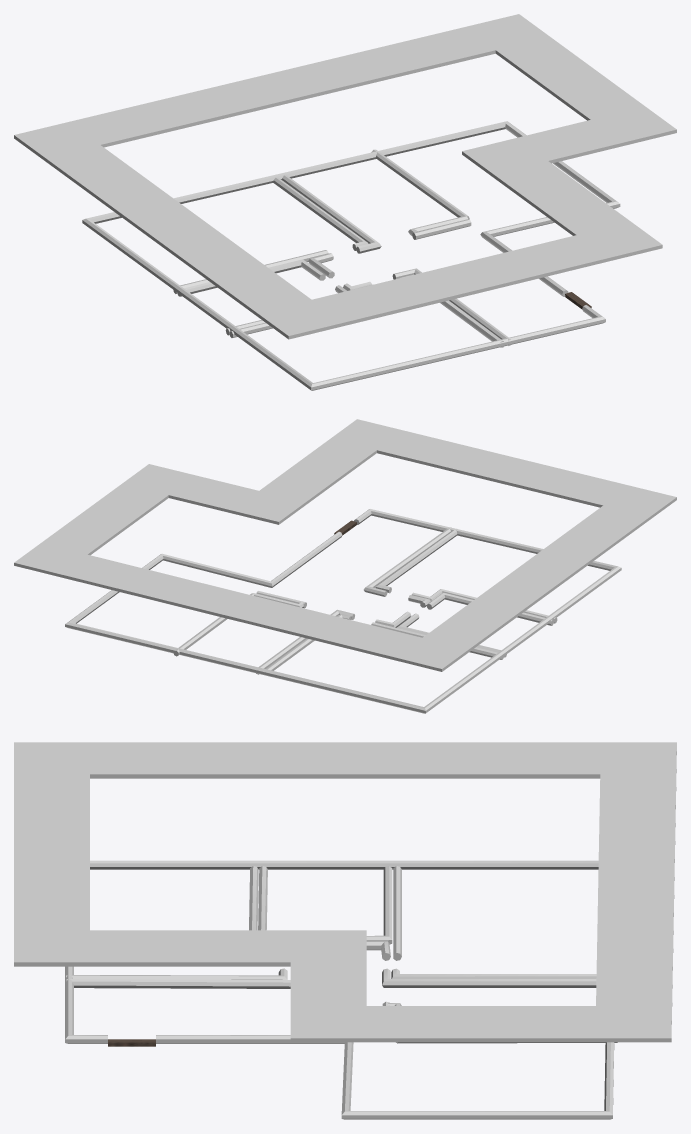
Rendered from rodaperufo.fbx.
3 views of the same model, one above another, from view 1: azimuth 30°, elevation 25°; view 2: azimuth 150°, elevation 25°; view 3: azimuth 270°, elevation 25° (orthographic). The views are drawn at different scales.
Visible parts, largest first — view 1: Rufo, rodape, rodape 7, rodape 8, rodape 2, rodape 6, rodape 11; view 2: Rufo, rodape, rodape 11, rodape 14, rodape 5, rodape 7; view 3: Rufo, rodape, rodape 11, rodape 7, rodape 14, rodape 8, rodape 6, rodape 4, rodape 5, rodape 13.
Part boxes in pixels (bbox=[...]): Rufo: bbox=[14, 14, 676, 339]; rodape: bbox=[82, 121, 620, 390]; rodape 7: bbox=[282, 175, 381, 253]; rodape 8: bbox=[273, 177, 368, 250]; rodape 2: bbox=[371, 149, 469, 219]; rodape 6: bbox=[177, 259, 325, 296]; rodape 11: bbox=[392, 268, 511, 345]; Rufo: bbox=[14, 419, 676, 671]; rodape: bbox=[65, 509, 621, 713]; rodape 11: bbox=[363, 527, 451, 596]; rodape 14: bbox=[375, 528, 457, 593]; rodape 5: bbox=[427, 592, 553, 625]; rodape 7: bbox=[256, 609, 354, 674]; Rufo: bbox=[14, 742, 676, 1042]; rodape: bbox=[65, 860, 614, 1119]; rodape 11: bbox=[66, 979, 290, 988]; rodape 7: bbox=[382, 968, 596, 987]; rodape 14: bbox=[66, 968, 287, 979]; rodape 8: bbox=[391, 968, 596, 978]; rodape 6: bbox=[366, 866, 392, 944]; rodape 4: bbox=[393, 866, 401, 960]; rodape 5: bbox=[258, 866, 267, 930]; rodape 13: bbox=[249, 866, 258, 930].
Bounding box in the file's own units: 153 × 24.99 × 145.
